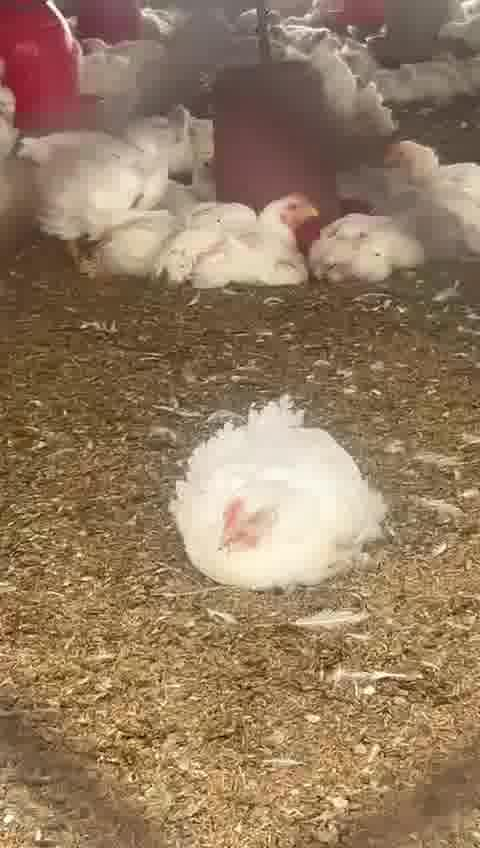AbNormal: (164, 394, 386, 592), (185, 187, 322, 282), (387, 137, 480, 244), (322, 222, 422, 288)
